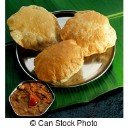poori: (62, 10, 117, 54), (8, 5, 61, 49), (35, 39, 82, 84)
